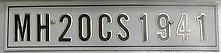0: (76, 12, 92, 41)
1: (136, 11, 150, 41), (194, 12, 208, 42)
2: (57, 12, 73, 42)
4: (174, 11, 191, 42)
9: (154, 11, 171, 42)
C: (96, 12, 113, 41)
H: (34, 12, 50, 41)
M: (12, 12, 31, 41)
S: (114, 12, 131, 42)
